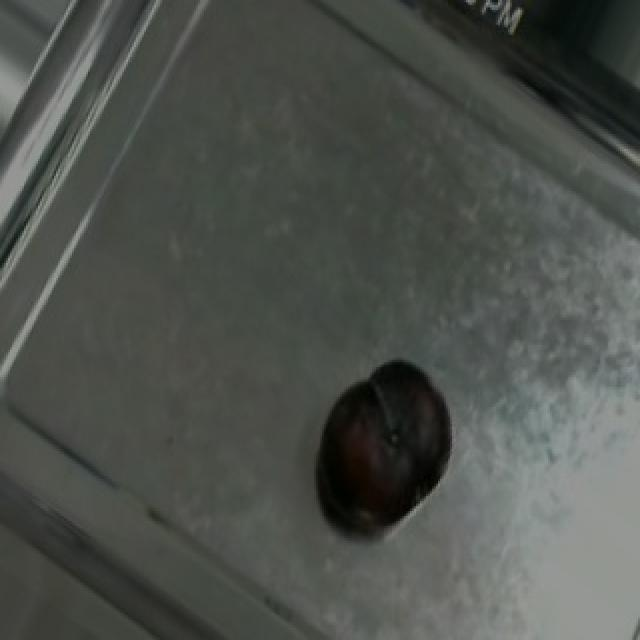Fruit: (300, 342, 464, 548)
